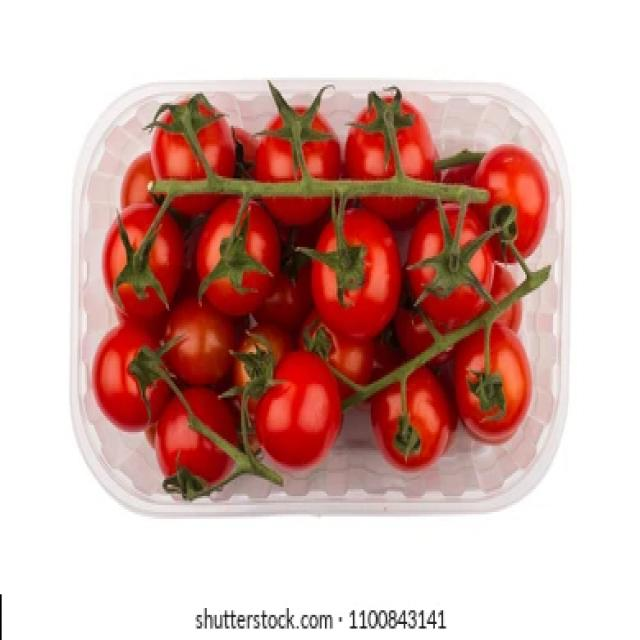tomatoes: (87, 83, 549, 496)
